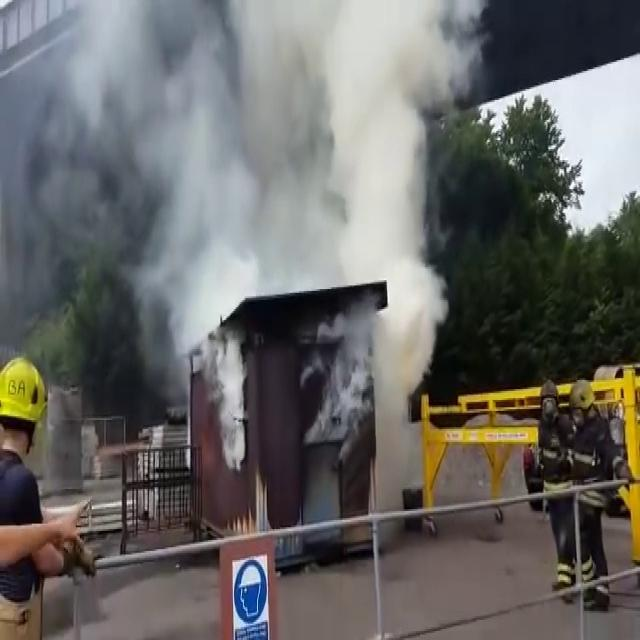Smoke: (149, 23, 461, 440)
